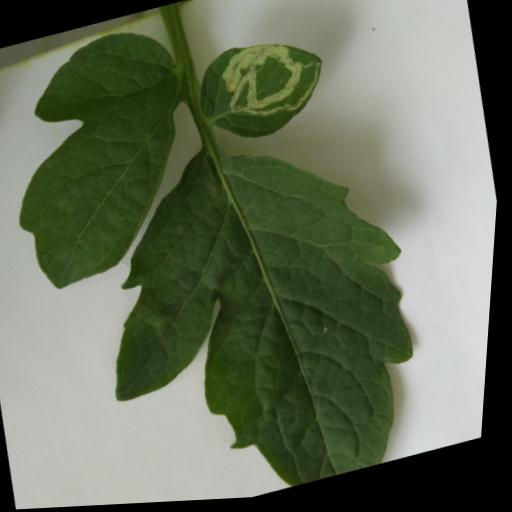Healthy: (66, 101, 457, 508), (0, 16, 222, 297)
Leaf_Miner: (190, 28, 338, 156)
